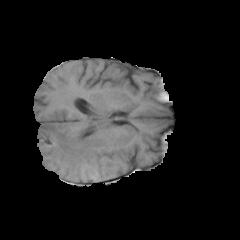glioma: (38, 120, 119, 181)
